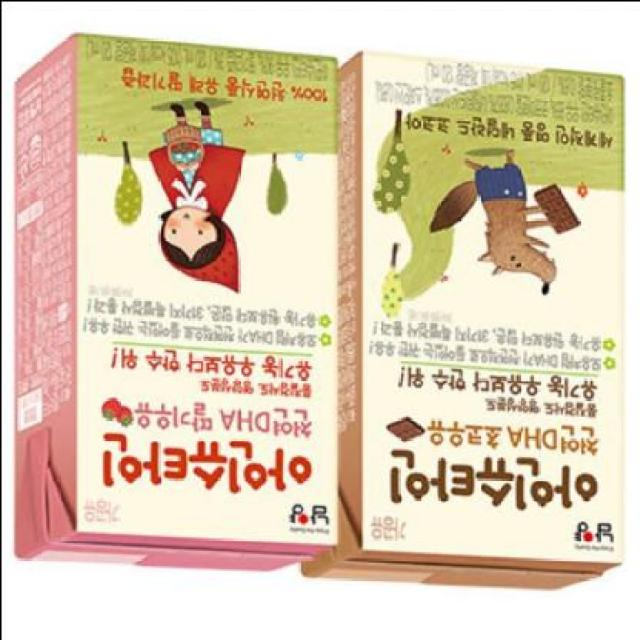tetra: (1, 23, 345, 592), (310, 37, 638, 614)
